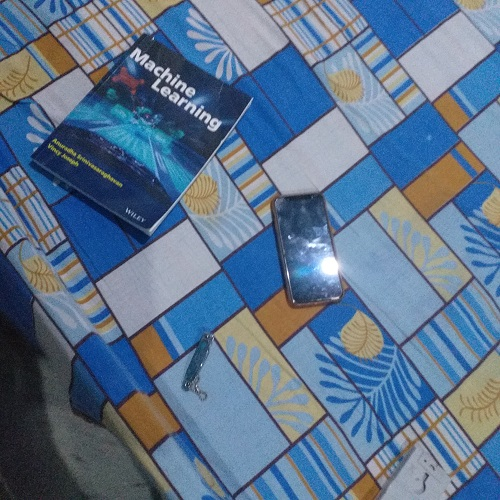book: (21, 33, 263, 245)
mobile: (268, 181, 352, 327)
nailcutter: (175, 326, 223, 415)
